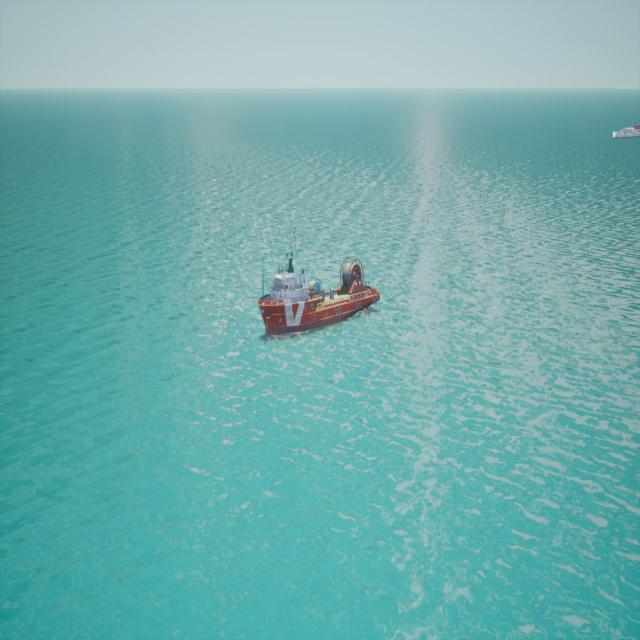tug boat: (259, 254, 381, 340)
